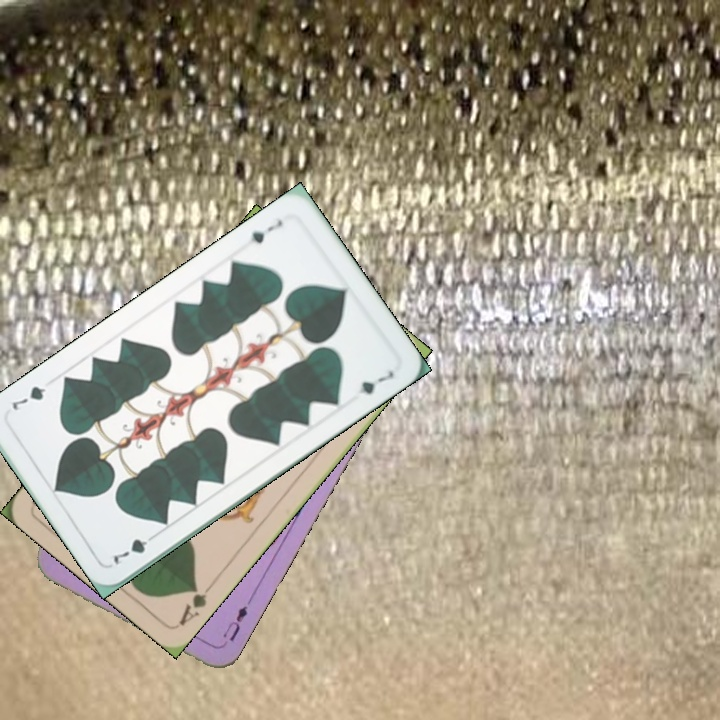EU: (218, 601, 250, 649)
G7: (109, 528, 161, 568), (246, 215, 285, 247)
GA: (174, 578, 217, 629)
